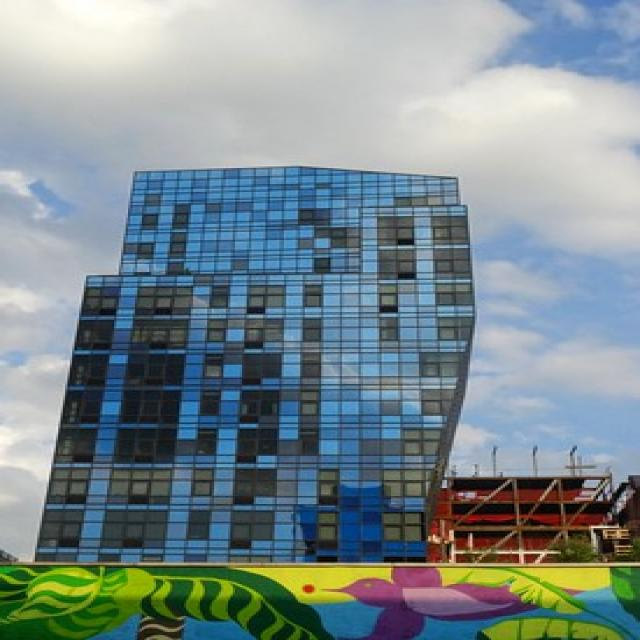Normal_building: (23, 162, 482, 560)
